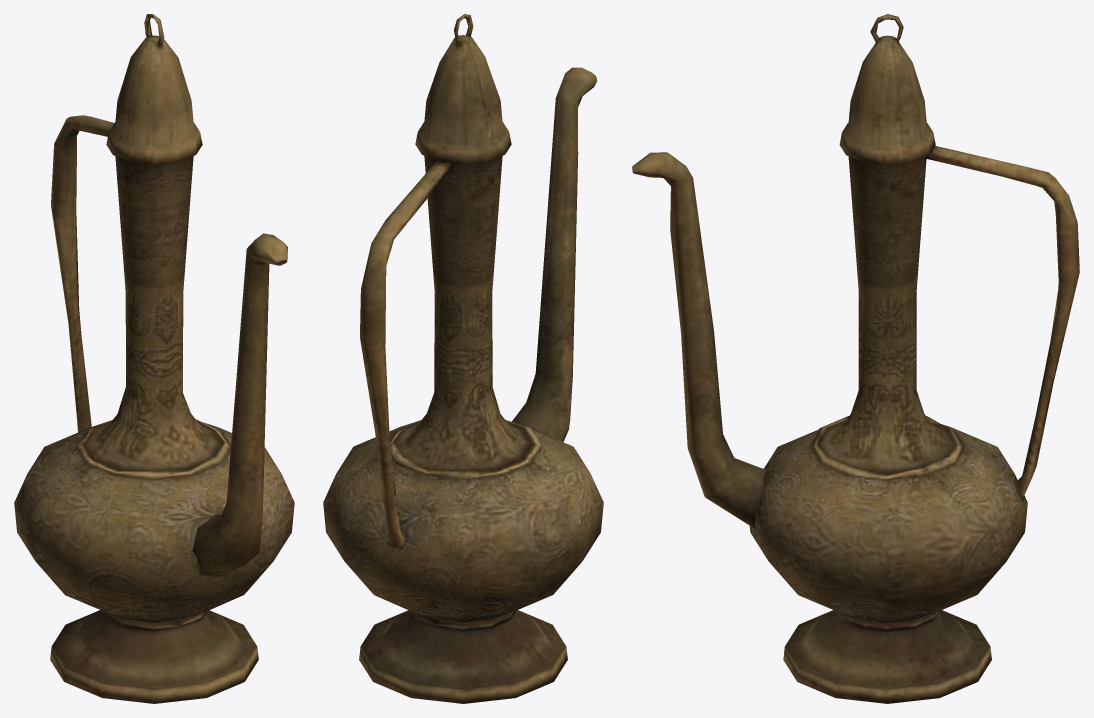
The model's file is mdl_paprika_teapot.gltf.
The picture shows the model from 3 angles, left to right: view 1: azimuth 30°, elevation 25°; view 2: azimuth 150°, elevation 25°; view 3: azimuth 270°, elevation 25°; orthographic projection.
Parts seen in each view (by area): view 1: Golden Teapot; view 2: Golden Teapot; view 3: Golden Teapot.
Boxes of the visible parts, box(x1,y1,x2,y2) form: Golden Teapot: box(14, 14, 294, 703); Golden Teapot: box(323, 14, 603, 703); Golden Teapot: box(632, 14, 1079, 703).
Bounding box in the file's own units: 2.98 × 7.57 × 4.76.
1 material, 1 textured.
